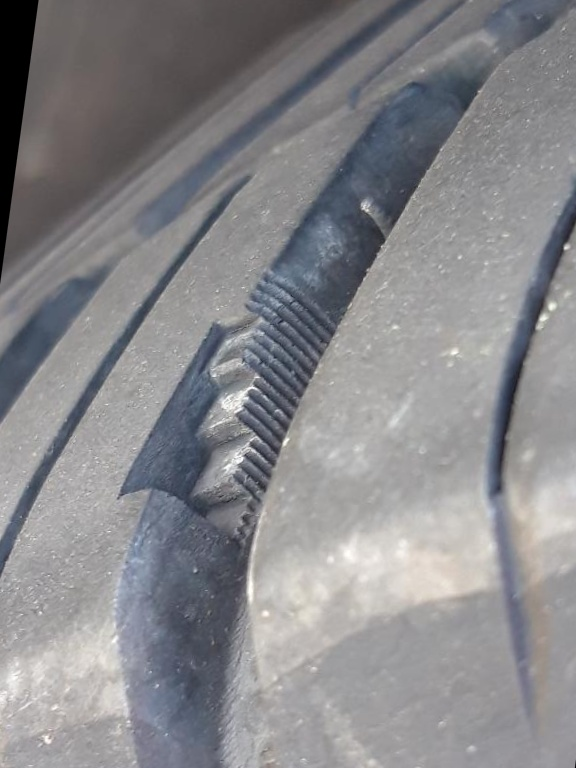temoin:90: (90, 256, 359, 570)
